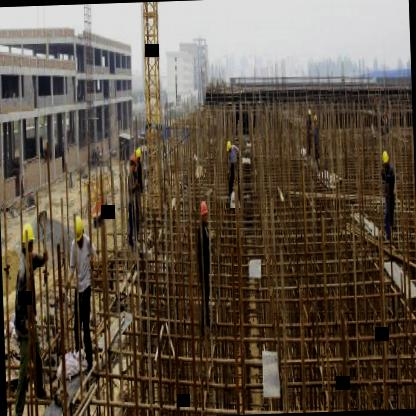helmet: (20, 221, 37, 257), (72, 211, 86, 249), (199, 199, 210, 222), (225, 136, 234, 155), (382, 148, 390, 168), (130, 153, 138, 170), (134, 146, 142, 163), (307, 104, 312, 120), (314, 112, 318, 126)
